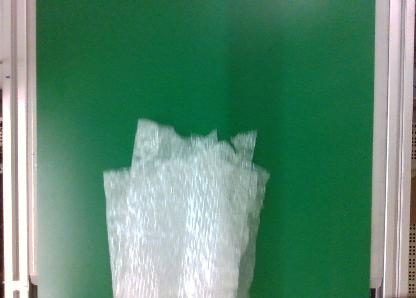Others: (103, 117, 271, 298)
